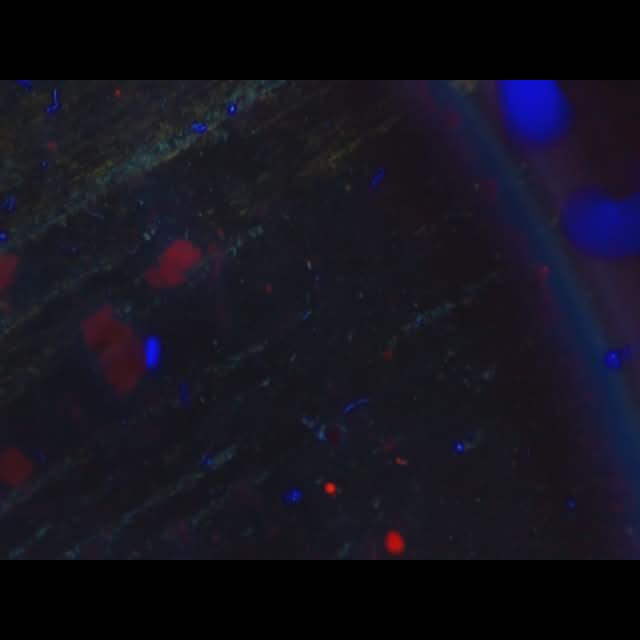Fragment: (384, 530, 406, 556)
